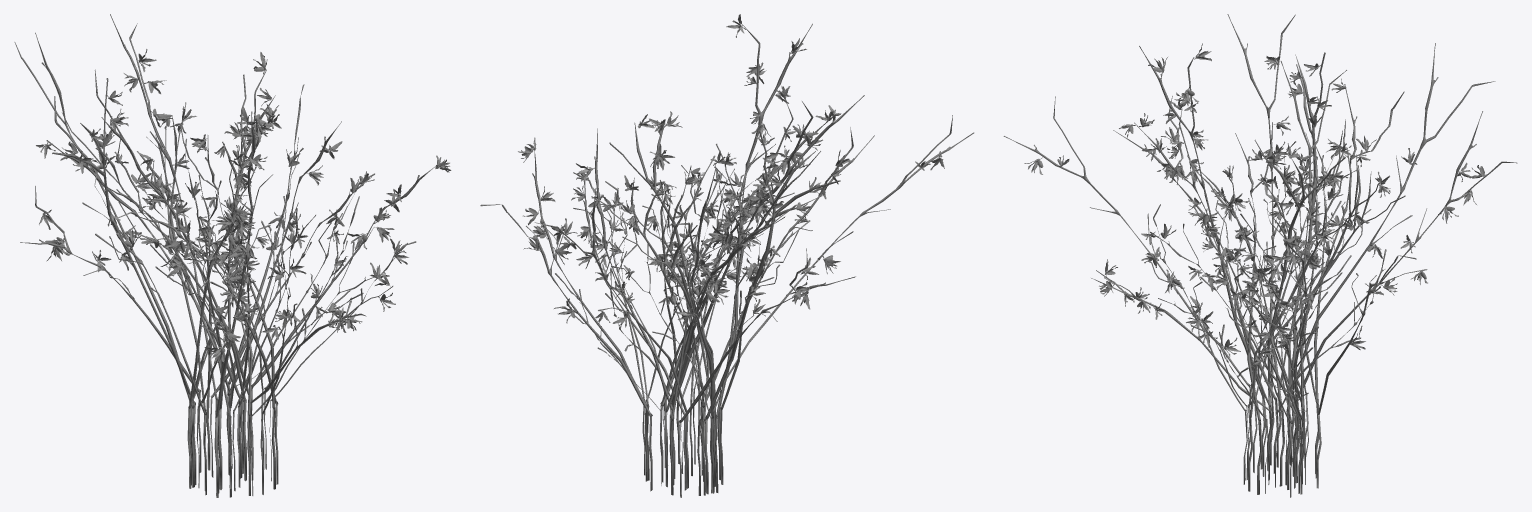
3 renders of one model, left to right at view 1: azimuth 30°, elevation 25°; view 2: azimuth 150°, elevation 25°; view 3: azimuth 270°, elevation 25°, orthographic. The views are drawn at different scales.
Visible parts, largest first — view 1: Item_dry plant; view 2: Item_dry plant; view 3: Item_dry plant.
Boxes of the visible parts, x1=… form: Item_dry plant: x1=14, y1=14, x2=451, y2=497; Item_dry plant: x1=480, y1=14, x2=974, y2=497; Item_dry plant: x1=1003, y1=14, x2=1517, y2=497.
Size of the model in its own units: 0.0801 by 0.0911 by 0.0981.
Materials: 1 (1 with a texture image).
